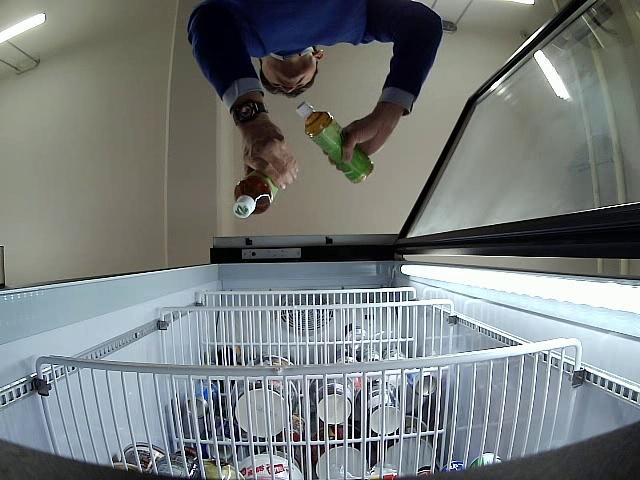00_hand: (241, 130, 301, 190), (343, 106, 399, 160)
19_17cha: (295, 101, 374, 184), (232, 169, 277, 216)
